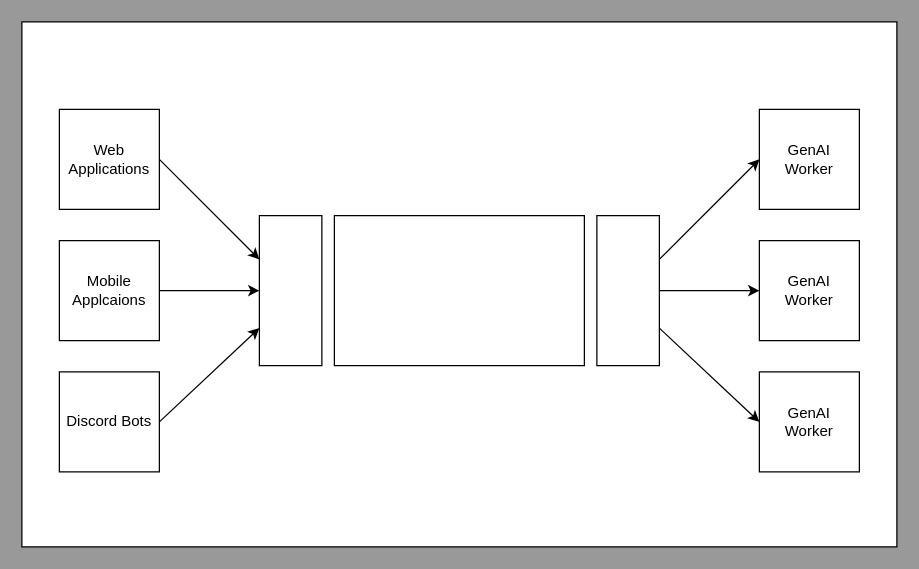
Image size: 919x569. Some labels were removed from this diagram. Each missing label, with the centre of its shape:
"Distributed Task Queues" goes at point (458, 290).
"Service Proxies" goes at point (290, 290).
"Worker Proxies" goes at point (627, 290).
